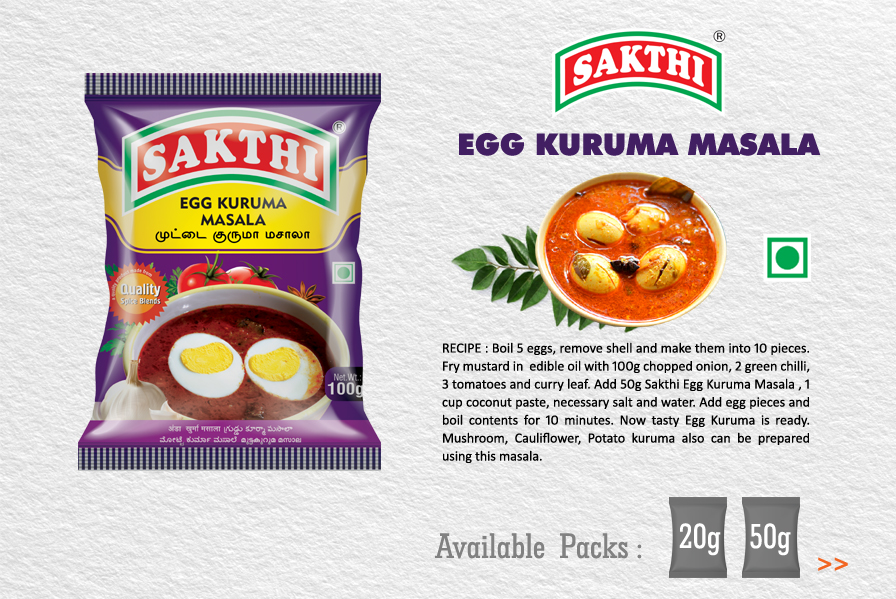VEG: (762, 234, 816, 285), (331, 260, 356, 287)
